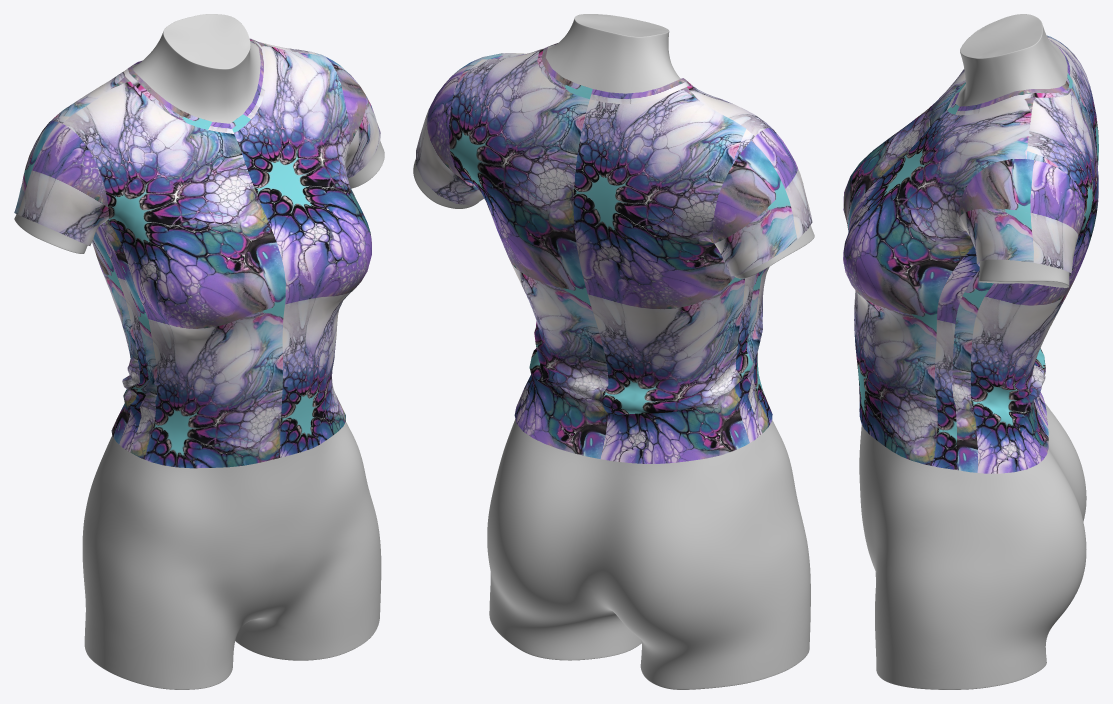
File: dummy2.fbx
3 renders of one model, left to right at view 1: azimuth 30°, elevation 25°; view 2: azimuth 150°, elevation 25°; view 3: azimuth 270°, elevation 25°, orthographic. The views are drawn at different scales.
Parts seen in each view (by area): view 1: 60, Obj_Avatar_Shape, 62, 21, 31, Pattern2D_3805017, Pattern2D_3805018, 63; view 2: 21, Obj_Avatar_Shape, 63, 30, 60, 62, Pattern2D_3805002; view 3: Obj_Avatar_Shape, 60, 21, 31, 30, Pattern2D_3805018, Pattern2D_3805002.
Boxes of the visible parts, x1=… form: 60: x1=62, y1=42, x2=371, y2=468; Obj_Avatar_Shape: x1=14, y1=14, x2=384, y2=689; 62: x1=18, y1=122, x2=108, y2=245; 21: x1=50, y1=40, x2=325, y2=451; 31: x1=325, y1=56, x2=380, y2=178; Pattern2D_3805017: x1=125, y1=71, x2=233, y2=133; Pattern2D_3805018: x1=230, y1=39, x2=267, y2=133; 63: x1=14, y1=121, x2=58, y2=214; 21: x1=449, y1=50, x2=762, y2=463; Obj_Avatar_Shape: x1=413, y1=14, x2=814, y2=689; 63: x1=712, y1=141, x2=797, y2=276; 30: x1=416, y1=65, x2=483, y2=205; 60: x1=474, y1=47, x2=772, y2=433; 62: x1=751, y1=128, x2=812, y2=239; Pattern2D_3805002: x1=537, y1=47, x2=681, y2=103; Obj_Avatar_Shape: x1=859, y1=14, x2=1086, y2=689; 60: x1=843, y1=69, x2=1033, y2=469; 21: x1=952, y1=35, x2=1098, y2=473; 31: x1=958, y1=159, x2=1033, y2=266; 30: x1=1030, y1=160, x2=1084, y2=276; Pattern2D_3805018: x1=946, y1=89, x2=1033, y2=115; Pattern2D_3805002: x1=1033, y1=40, x2=1072, y2=97.
Size of the model in its own units: 0.6039 by 0.9764 by 0.3705.
2 materials, 1 textured.
